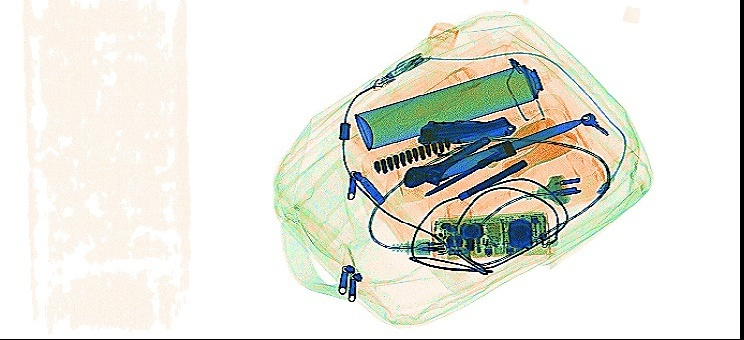knife: (424, 115, 584, 179), (412, 113, 519, 143)
pressure: (353, 62, 549, 150)
